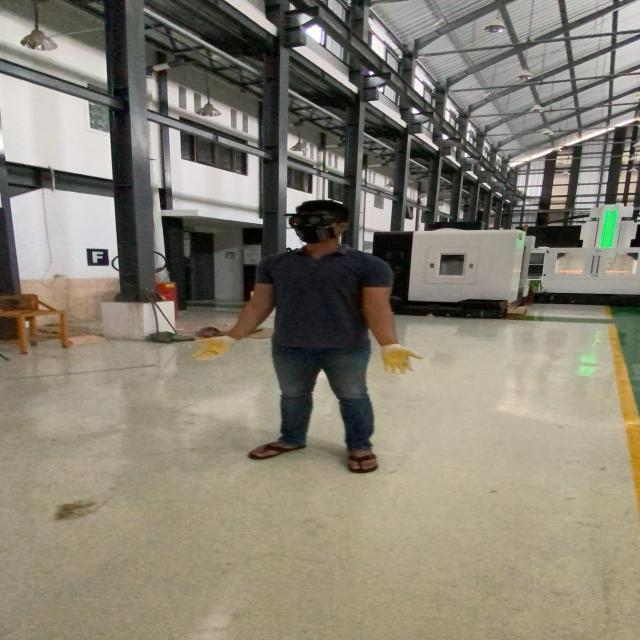glasses: (278, 207, 340, 230)
